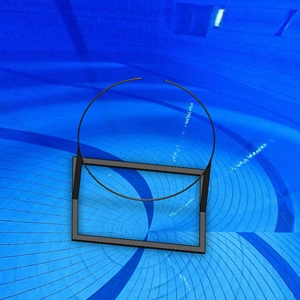circle: (72, 77, 217, 253)
